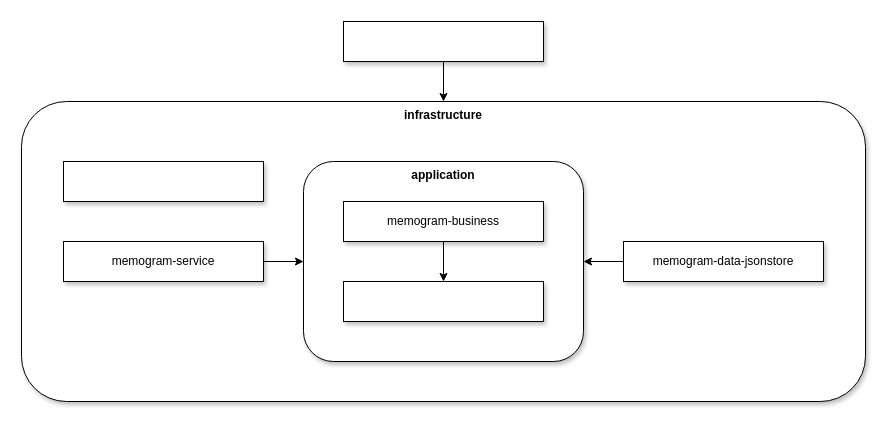
Some shapes in this 889 by 426 pixel diagram are drawn without their labels. Here are the shapes that lost their labels. From the top down, the centre of each, then its label:
At (x=444, y=42): "memogram-app-jsonstore".
At (x=164, y=182): "memogram-ui-angular".
At (x=444, y=302): "memogram-domain".
